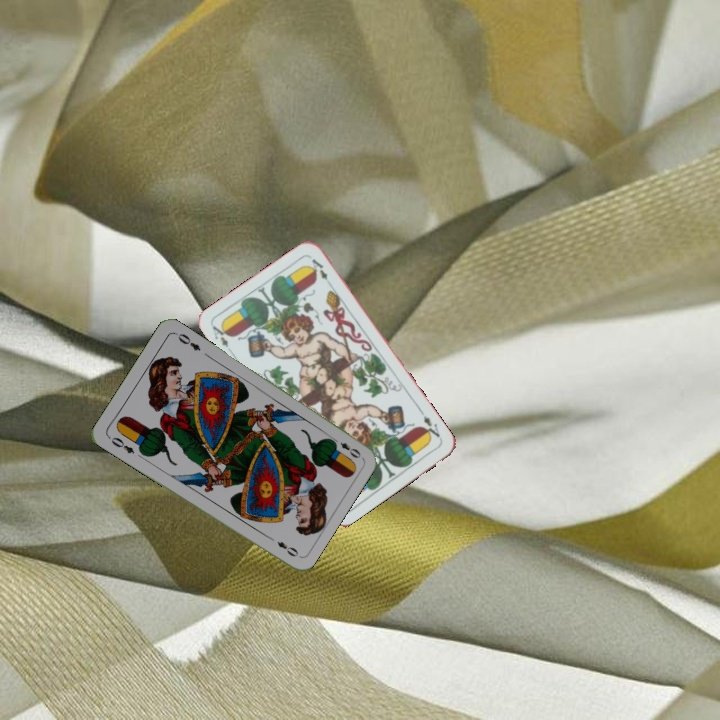EA: (208, 321, 236, 357), (418, 412, 445, 443)
EO: (327, 433, 364, 461), (104, 432, 137, 456)
